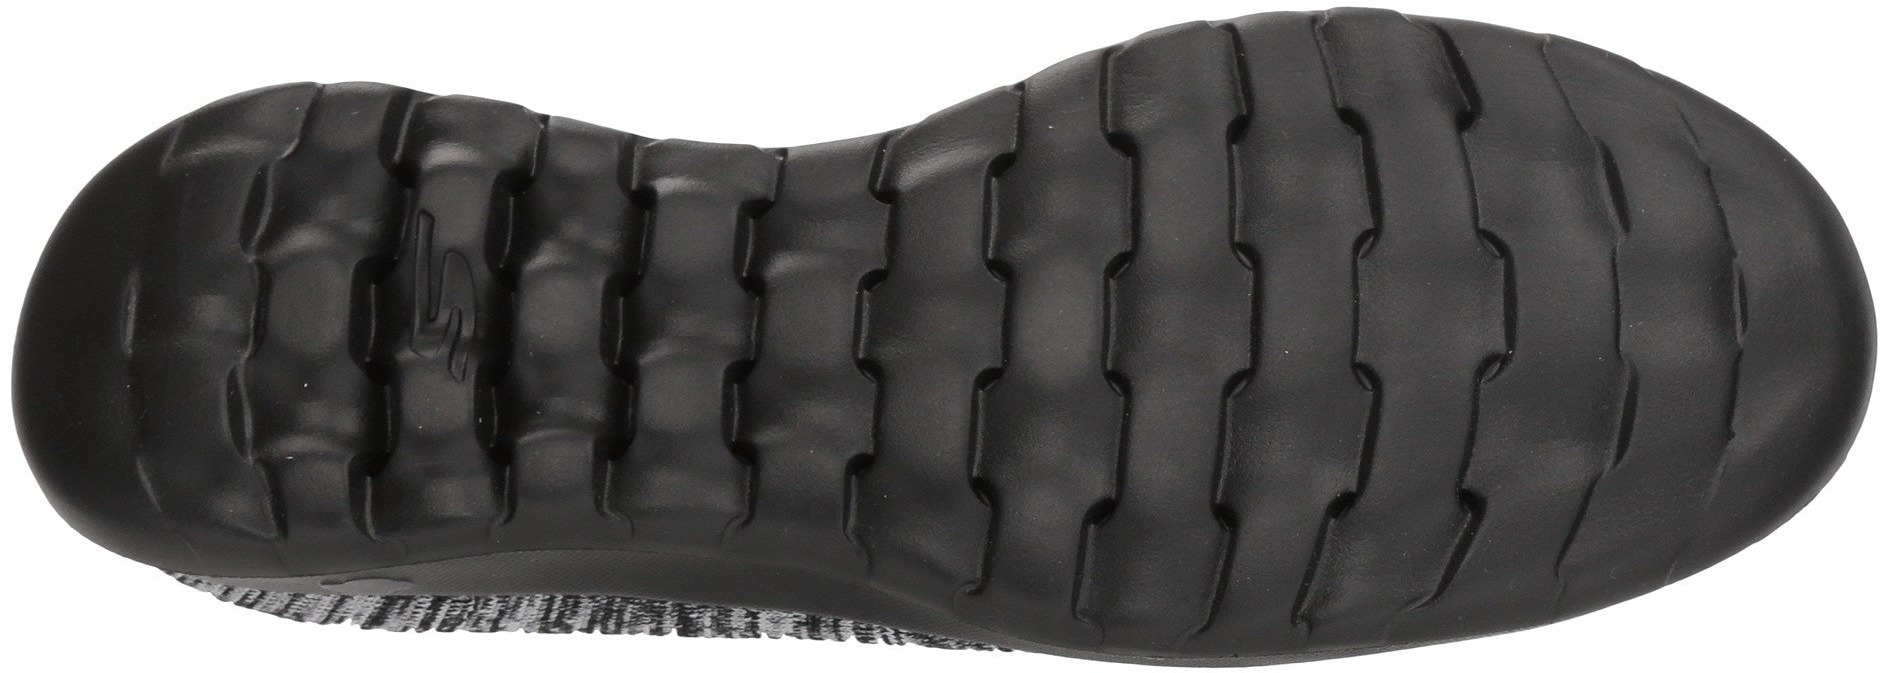line: (1064, 78, 1605, 569), (671, 153, 1042, 500)
text: (354, 211, 518, 376)
